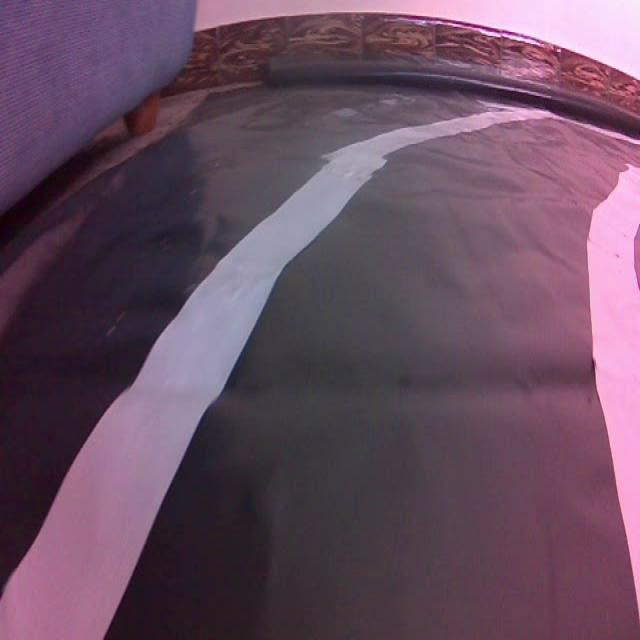LineaCarril: (0, 110, 544, 638), (588, 167, 640, 614)
